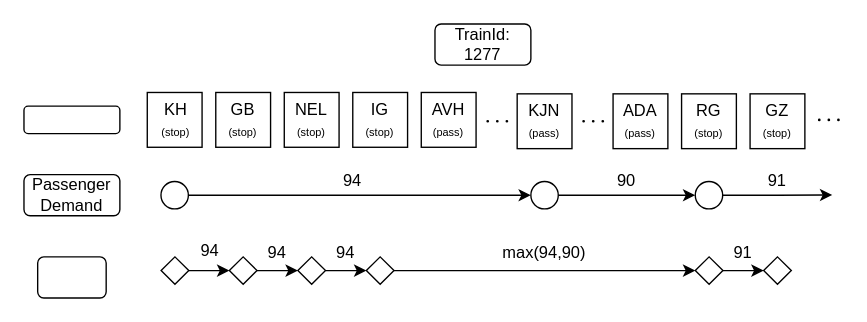
This 867x322 diagram has some shape labels left out. The shapes that lost their labels are listed below. From the top down, each one's centre as x and y in pixels, then its label:
point 71,119: Stations
point 71,277: Trips
